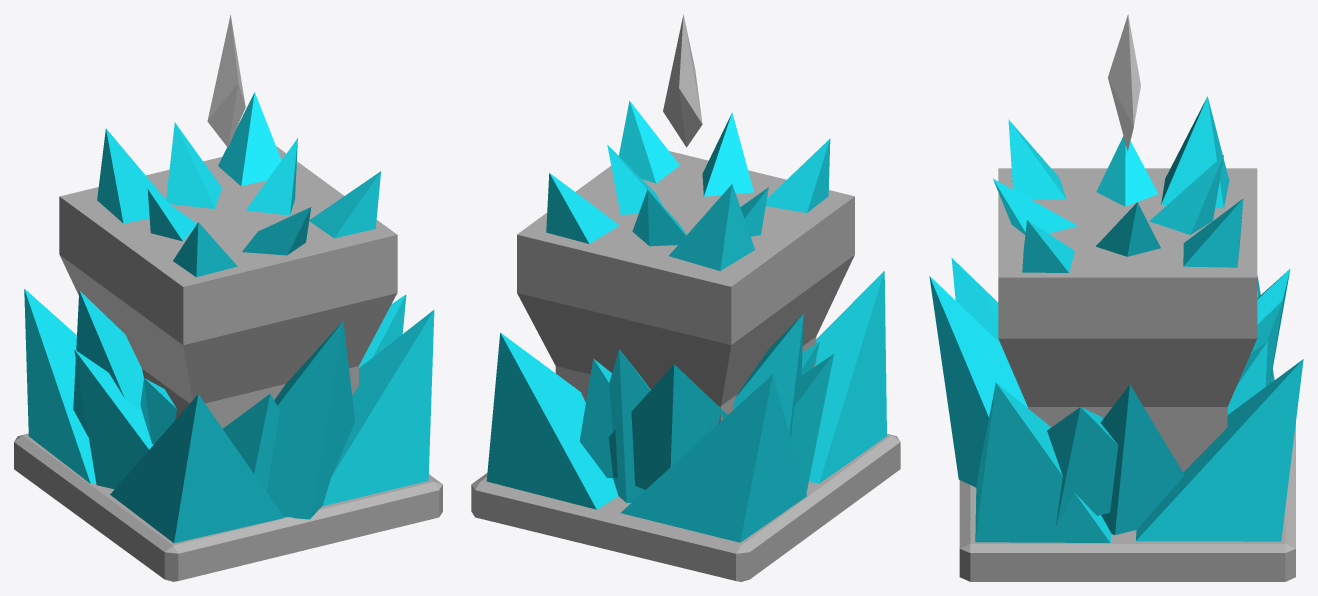
File: ice_magican.fbx
The picture shows the model from 3 angles, left to right: view 1: azimuth 30°, elevation 25°; view 2: azimuth 150°, elevation 25°; view 3: azimuth 270°, elevation 25°; orthographic projection. The views are drawn at different scales.
Visible parts, largest first — view 1: Cube.055, Cube, Cube.071, Cube.060, Cube.103, Cube.063, Cube.068, Cube.107, Cube.112, Cube.113, Cube.105, Cube.057 (+8 smaller); view 2: Cube.055, Cube, Cube.063, Cube.062, Cube.071, Cube.104, Cube.112, Cube.102, Cube.107, Cube.068, Cube.113, Cube.110 (+7 smaller); view 3: Cube.055, Cube.062, Cube, Cube.060, Cube.103, Cube.101, Cube.109, Cube.112, Cube.113, Cube.057, Cube.111, Cube.110 (+8 smaller).
Part boxes in pixels (x1=…): Cube.055: x1=59, y1=146, x2=397, y2=428; Cube: x1=14, y1=433, x2=442, y2=581; Cube.071: x1=110, y1=394, x2=284, y2=543; Cube.060: x1=322, y1=310, x2=434, y2=506; Cube.103: x1=266, y1=321, x2=355, y2=519; Cube.063: x1=24, y1=289, x2=95, y2=483; Cube.068: x1=74, y1=349, x2=153, y2=489; Cube.107: x1=73, y1=290, x2=143, y2=436; Cube.112: x1=97, y1=128, x2=169, y2=223; Cube.113: x1=218, y1=92, x2=281, y2=186; Cube.105: x1=223, y1=394, x2=279, y2=491; Cube.057: x1=166, y1=122, x2=221, y2=208; Cube.055: x1=517, y1=151, x2=854, y2=423; Cube: x1=471, y1=434, x2=900, y2=581; Cube.063: x1=621, y1=374, x2=806, y2=542; Cube.062: x1=486, y1=332, x2=618, y2=509; Cube.071: x1=809, y1=271, x2=886, y2=483; Cube.104: x1=608, y1=364, x2=727, y2=489; Cube.112: x1=669, y1=184, x2=754, y2=270; Cube.102: x1=609, y1=349, x2=650, y2=502; Cube.107: x1=733, y1=313, x2=803, y2=437; Cube.068: x1=791, y1=354, x2=833, y2=493; Cube.113: x1=546, y1=173, x2=619, y2=243; Cube.110: x1=663, y1=14, x2=702, y2=147; Cube.055: x1=998, y1=168, x2=1257, y2=472; Cube.062: x1=1136, y1=359, x2=1303, y2=541; Cube: x1=959, y1=423, x2=1295, y2=581; Cube.060: x1=975, y1=383, x2=1111, y2=542; Cube.103: x1=929, y1=276, x2=1027, y2=487; Cube.101: x1=1100, y1=384, x2=1184, y2=534; Cube.109: x1=1047, y1=407, x2=1166, y2=525; Cube.112: x1=1161, y1=96, x2=1229, y2=208; Cube.113: x1=1183, y1=198, x2=1243, y2=267; Cube.057: x1=1149, y1=155, x2=1223, y2=234; Cube.111: x1=1008, y1=119, x2=1066, y2=199; Cube.110: x1=1108, y1=14, x2=1140, y2=151.
Size of the model in its own units: 441 by 665 by 445.
